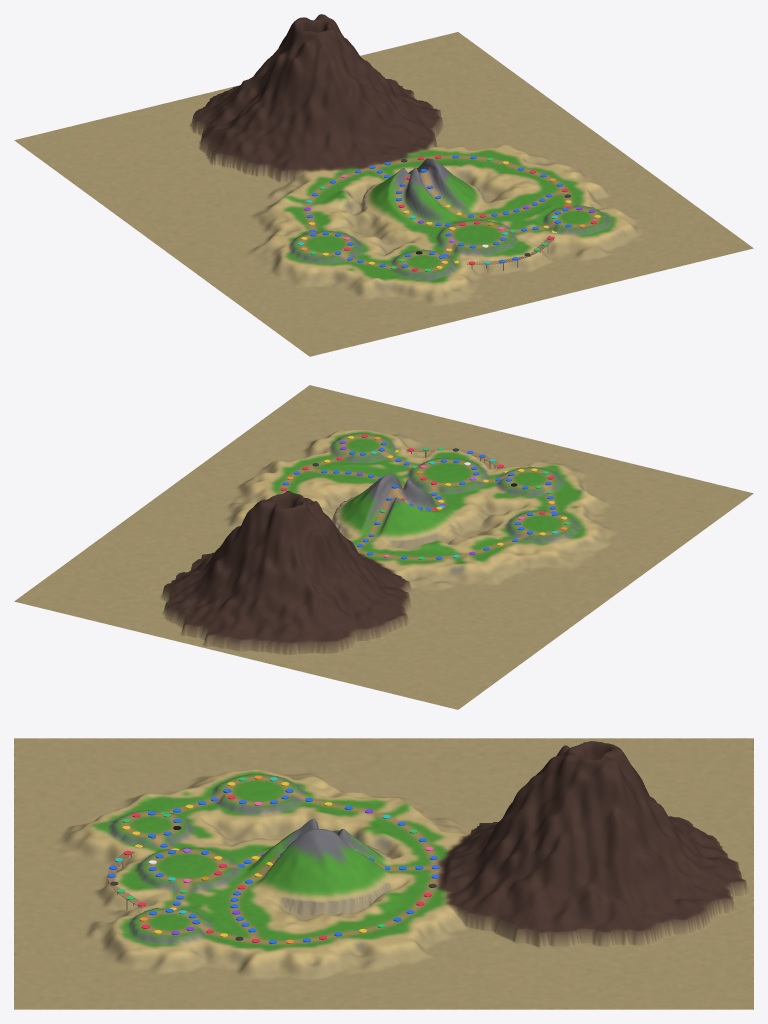
The model's file is ilha.glb.
3 renders of one model, top to bottom at view 1: azimuth 30°, elevation 25°; view 2: azimuth 150°, elevation 25°; view 3: azimuth 270°, elevation 25°, orthographic. The views are drawn at different scales.
Visible parts, largest first — view 1: terreno; view 2: terreno; view 3: terreno, ponte.
Boxes of the visible parts, <box> form: terreno: <box>14,14,753,356</box>; terreno: <box>14,385,753,709</box>; terreno: <box>14,738,753,1009</box>; ponte: <box>107,834,165,910</box>.
Bounding box in the file's own units: 145 × 32.69 × 167.
